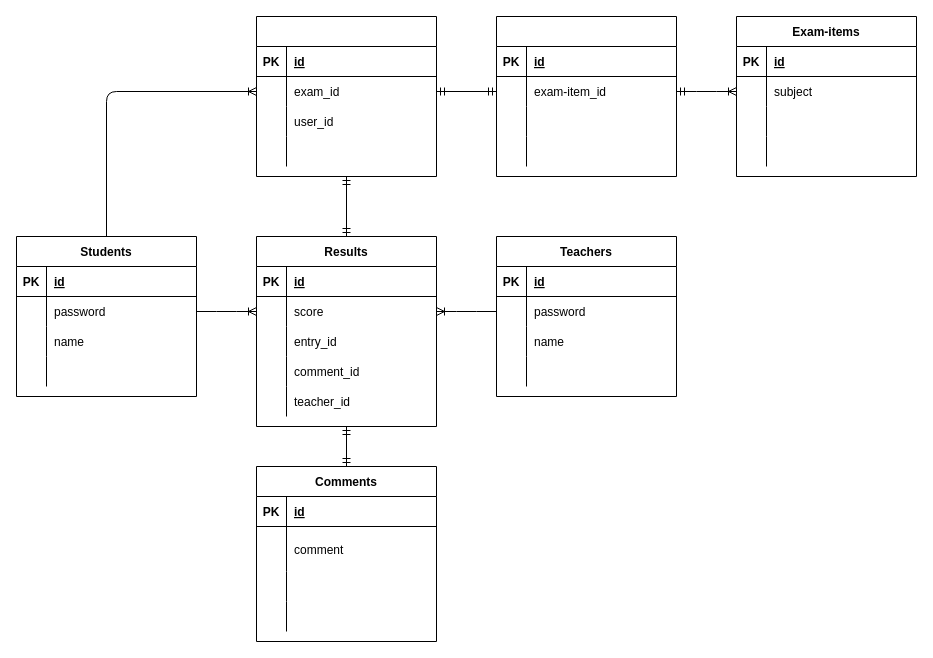
Image size: 933x658. Some labels were removed from this diagram. Here are the shapes that lost their labels. From the top down, the box of each, then its label:
(256, 16, 436, 176): Entries
(496, 16, 676, 176): Exams
